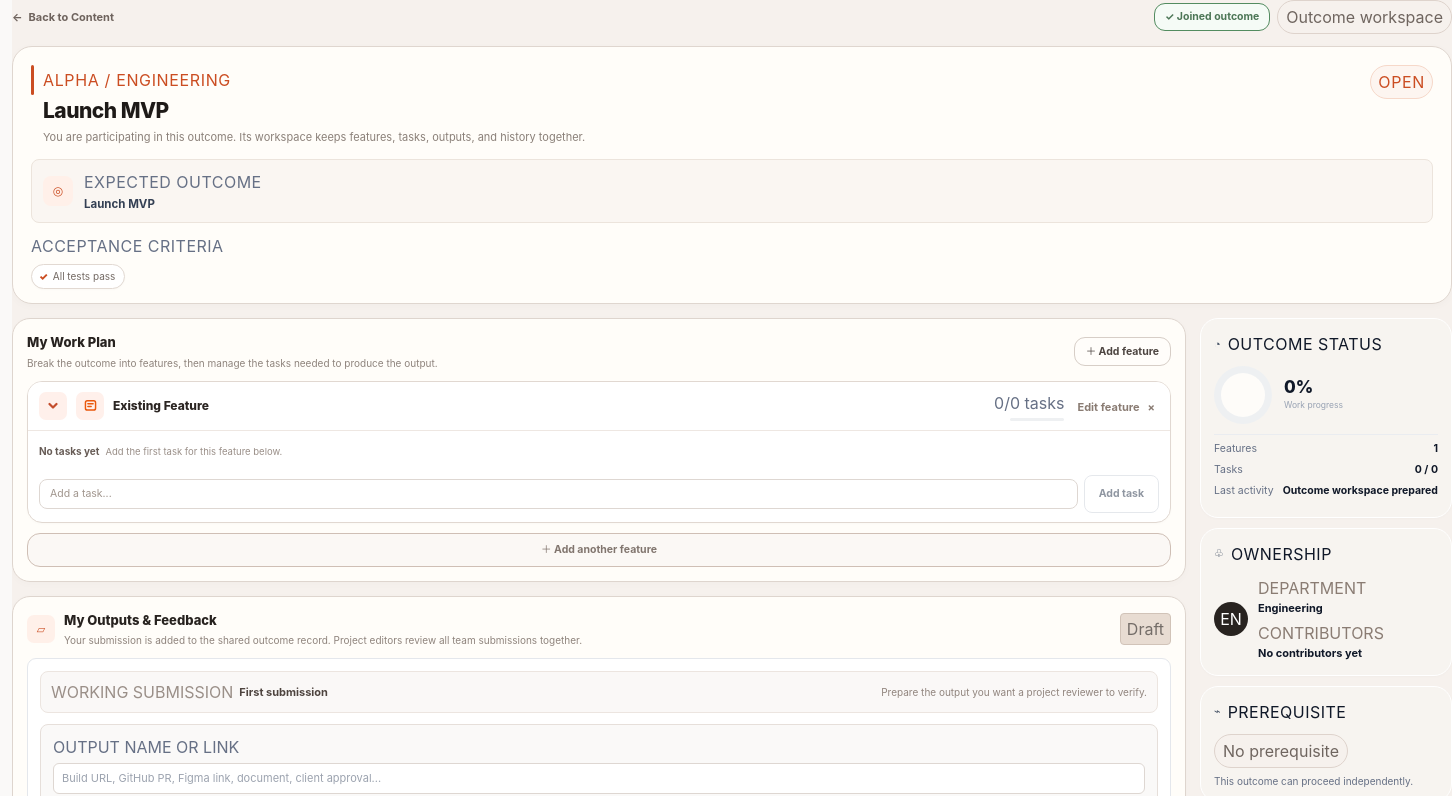
Outcome Workspace - Empty State › renders FeatureComposer at the bottom when adding another feature
Expected: the heading "Existing Feature" is shown, [113,398,209,413]
Click the button "＋ Add another feature" at [599, 550], box [27,533,1171,567]
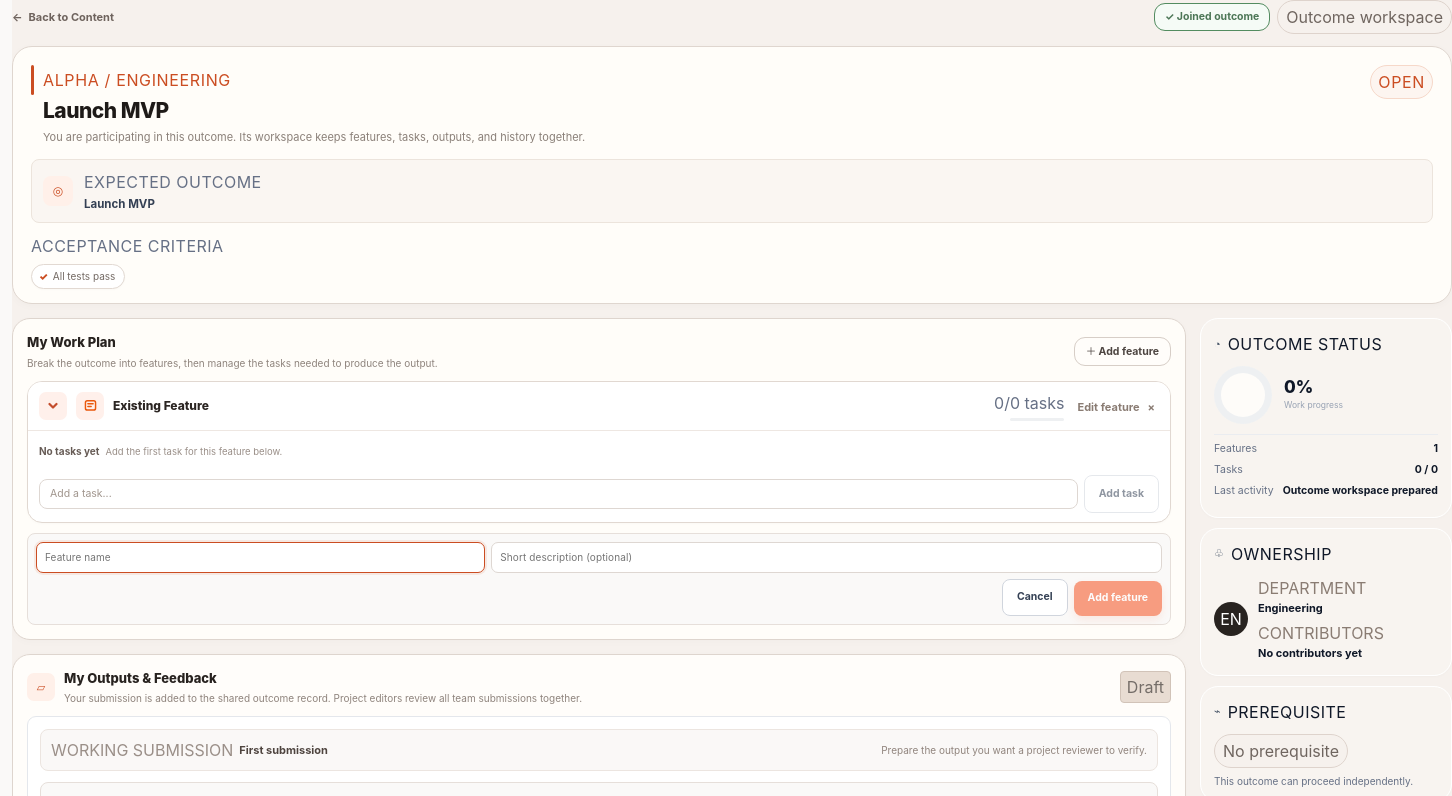
Expected: the text "Existing Feature" is shown, [113,398,209,413]
Now the field with placeholder "Feature name" is shown, box [36,542,485,573]
Now the form with placeholder "Feature name" is shown, box [27,533,1171,624]
